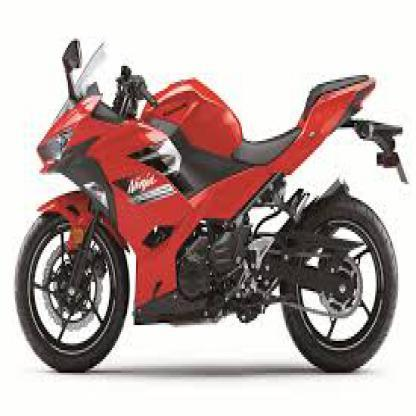Motorcycle: (15, 28, 408, 381)
